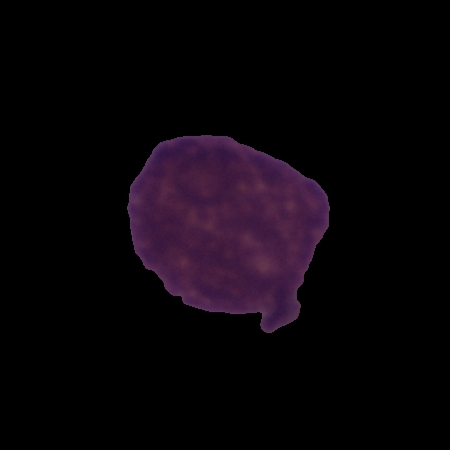HEM: (124, 130, 336, 336)
